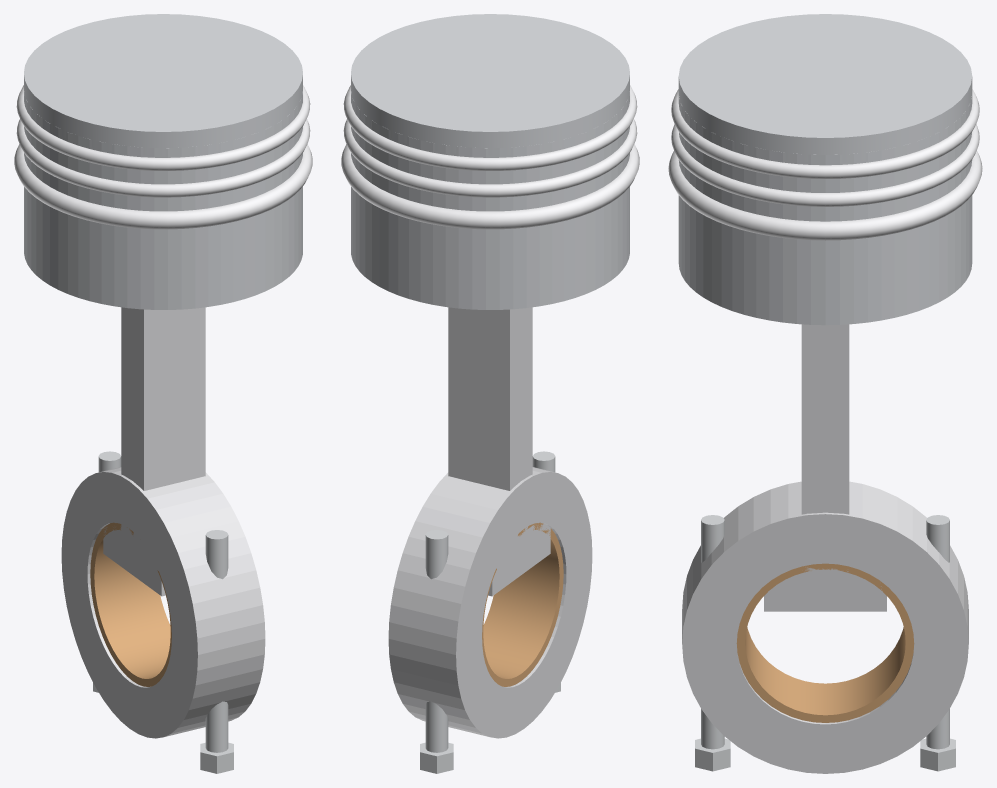
File: piston_biela.glb
3 renders of one model, left to right at view 1: azimuth 30°, elevation 25°; view 2: azimuth 150°, elevation 25°; view 3: azimuth 270°, elevation 25°, orthographic. The views are drawn at different scales.
Parts seen in each view (by area): view 1: piston, biela, aros, tapa_biela, cojinetes, bulones_tapa; view 2: piston, biela, aros, tapa_biela, cojinetes, bulones_tapa; view 3: piston, biela, tapa_biela, aros, cojinetes, bulones_tapa.
Boxes of the visible parts, <box> form: piston: <box>24,14,302,309</box>; biela: <box>61,307,265,654</box>; aros: <box>14,85,312,229</box>; tapa_biela: <box>61,556,265,738</box>; cojinetes: <box>90,522,171,686</box>; bulones_tapa: <box>93,451,233,773</box>; piston: <box>351,14,629,309</box>; biela: <box>388,307,592,654</box>; aros: <box>341,85,639,229</box>; tapa_biela: <box>388,556,592,738</box>; cojinetes: <box>482,522,563,686</box>; bulones_tapa: <box>420,451,560,773</box>; piston: <box>678,14,972,325</box>; biela: <box>682,324,968,643</box>; tapa_biela: <box>682,644,968,773</box>; aros: <box>668,89,982,240</box>; cojinetes: <box>736,563,914,722</box>; bulones_tapa: <box>695,515,955,771</box>.
Bounding box in the file's own units: 0.92 × 2.22 × 0.92.
